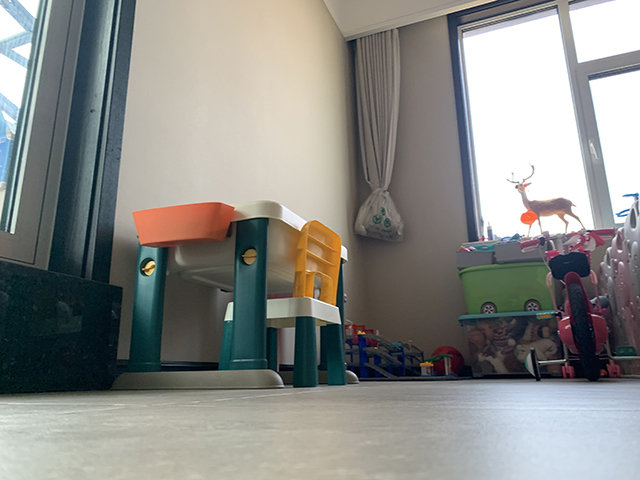stool: (217, 220, 348, 388)
table: (109, 199, 361, 391)
